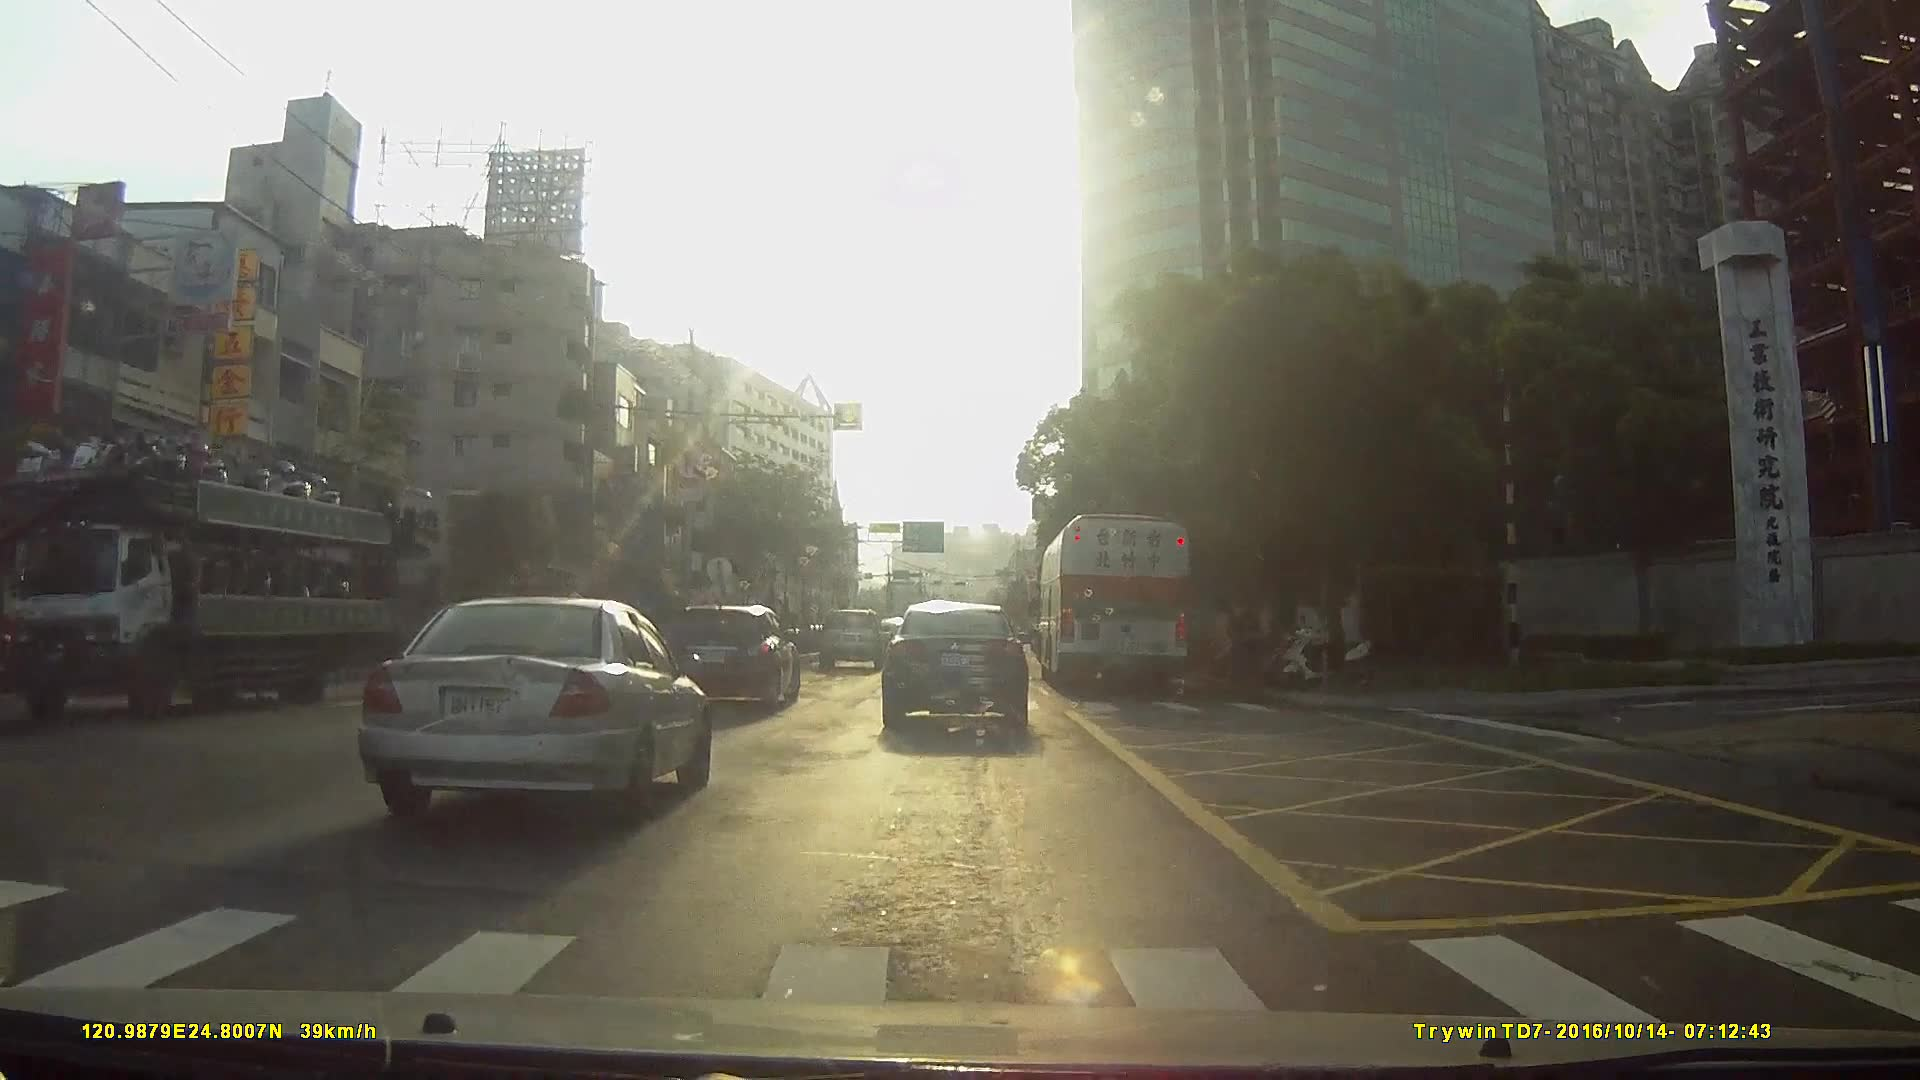vehicle: (29, 415, 384, 723), (349, 593, 708, 824), (1042, 510, 1199, 699), (880, 601, 1031, 738), (665, 604, 800, 712), (818, 609, 889, 674)
